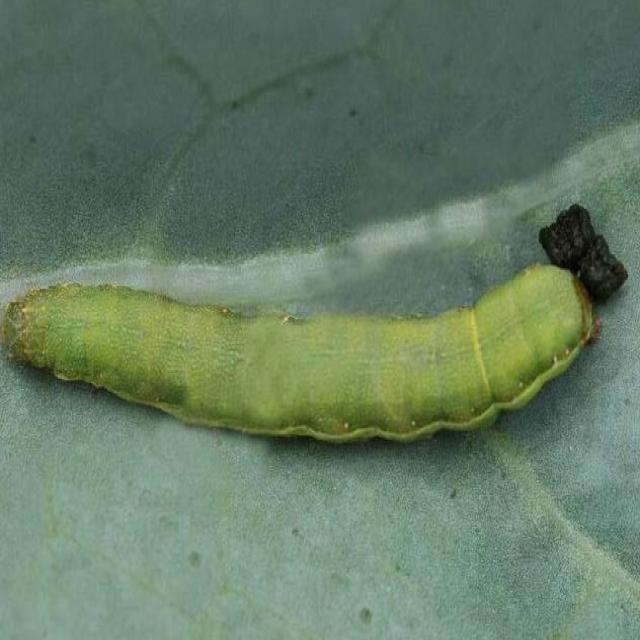BeetArmyWorm-Larva-: (0, 254, 601, 450)
